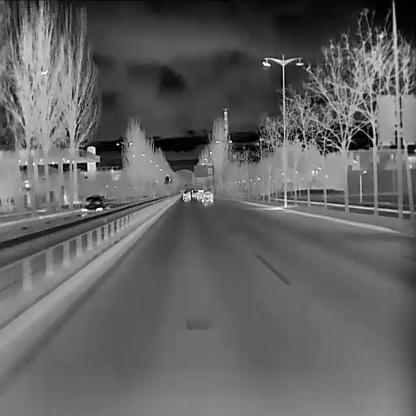car: (79, 193, 108, 217), (200, 188, 212, 202), (180, 187, 190, 198), (182, 188, 191, 200), (196, 188, 204, 198), (191, 188, 196, 197)
